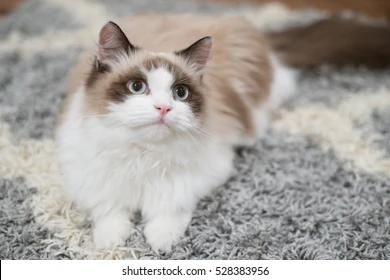ragdoll: (85, 11, 216, 149)
